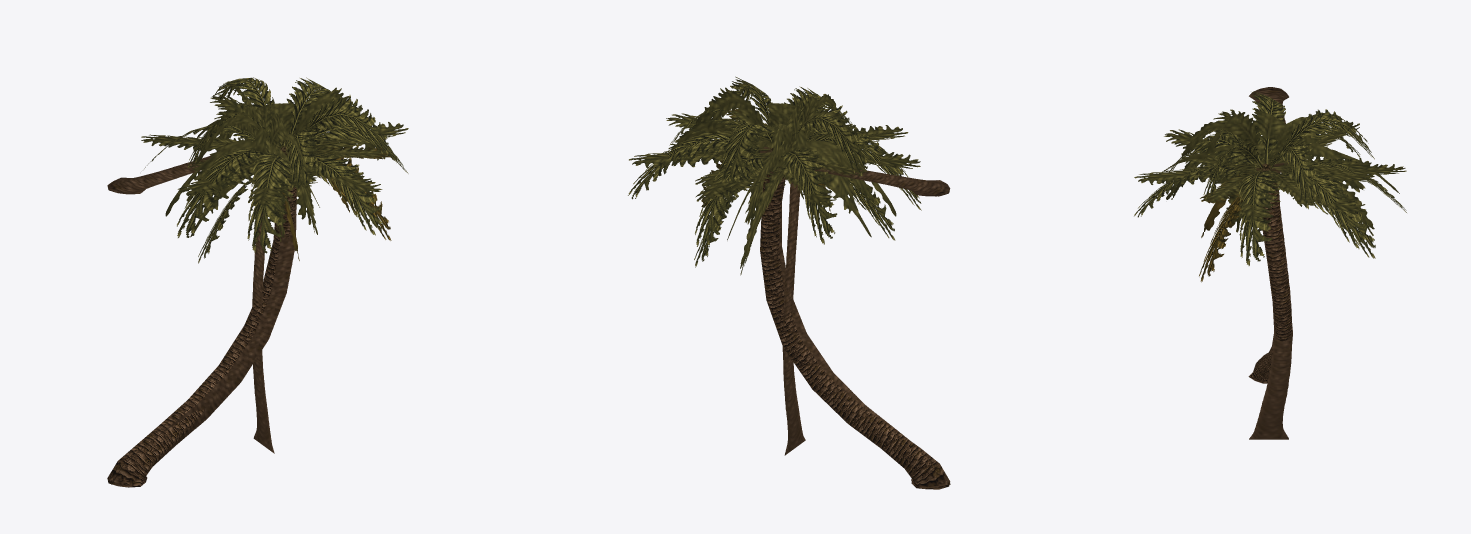
Rendered from Palmeira_06_Arco_Da_Duna.glb.
3 views of the same model, side by side, from view 1: azimuth 30°, elevation 25°; view 2: azimuth 150°, elevation 25°; view 3: azimuth 270°, elevation 25° (orthographic). The views are drawn at different scales.
Parts seen in each view (by area): view 1: Palmeira_06_Arco_Da_Duna impostor, Folhas abertas, Folhas novas, Caule, Folhas inferiores; view 2: Palmeira_06_Arco_Da_Duna impostor, Caule, Folhas abertas, Folhas novas, Folhas inferiores; view 3: Palmeira_06_Arco_Da_Duna impostor, Folhas abertas, Folhas novas, Caule, Folhas inferiores.
Boxes of the visible parts, box(x1,y1,x2,y2) form: Palmeira_06_Arco_Da_Duna impostor: box(107, 81, 408, 484); Folhas abertas: box(144, 102, 408, 253); Folhas novas: box(188, 77, 388, 193); Caule: box(107, 181, 296, 487); Folhas inferiores: box(198, 158, 391, 263); Palmeira_06_Arco_Da_Duna impostor: box(629, 87, 950, 484); Caule: box(760, 172, 950, 489); Folhas abertas: box(628, 118, 921, 248); Folhas novas: box(669, 76, 868, 184); Folhas inferiores: box(694, 177, 895, 267); Palmeira_06_Arco_Da_Duna impostor: box(1134, 87, 1406, 439); Folhas abertas: box(1134, 123, 1406, 265); Folhas novas: box(1181, 91, 1374, 209); Caule: box(1248, 190, 1292, 383); Folhas inferiores: box(1199, 168, 1375, 282).
Size of what is drawn, in the model's own units: 9.27 by 9.27 by 9.27.
Materials: 3 (3 with a texture image).
